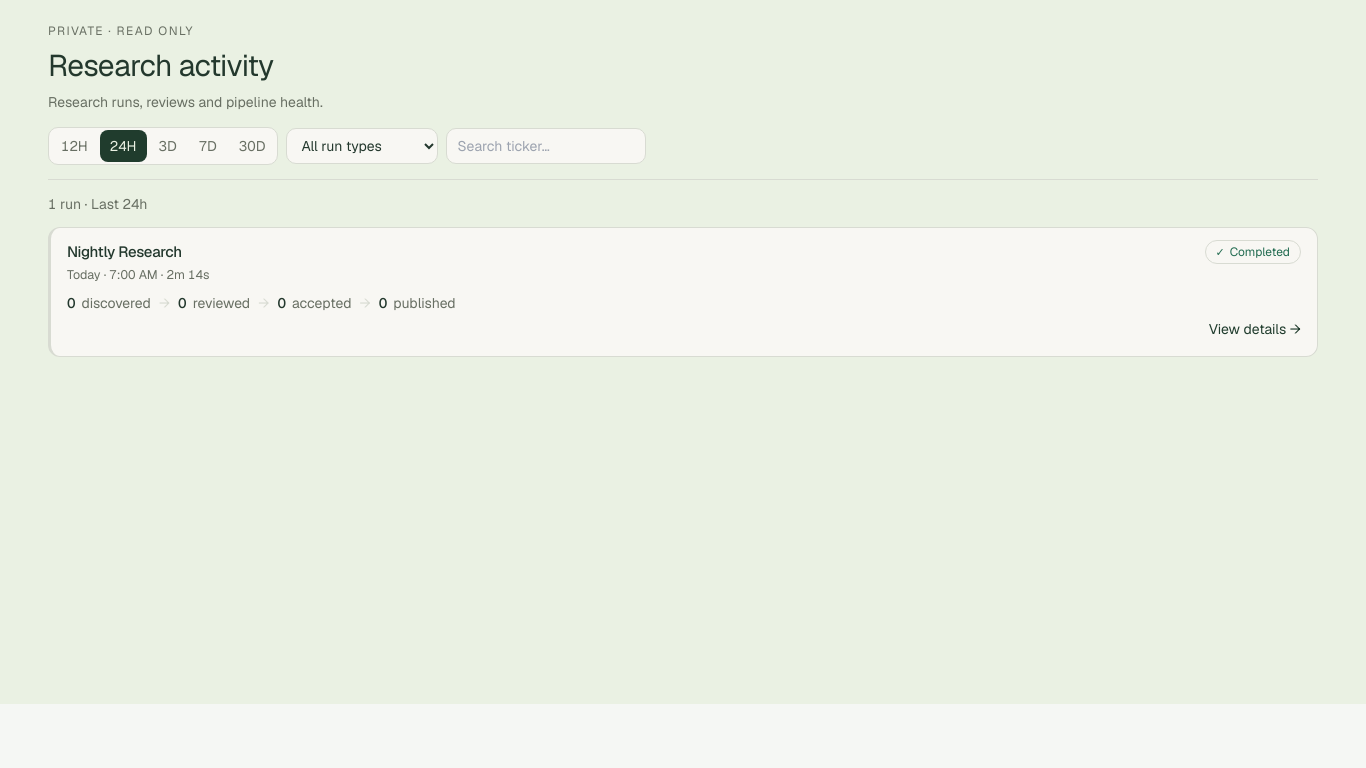
research activity page › keeps a recorded zero visible as zero rather than hiding it as unknown
Expected: the element named "Run summary" shows "0 discovered", [67,294,456,312]
Expected: the element named "Run summary" shows "0 published", [67,294,456,312]
Click the button "View details →" at (1251, 330), box [1201,316,1301,344]
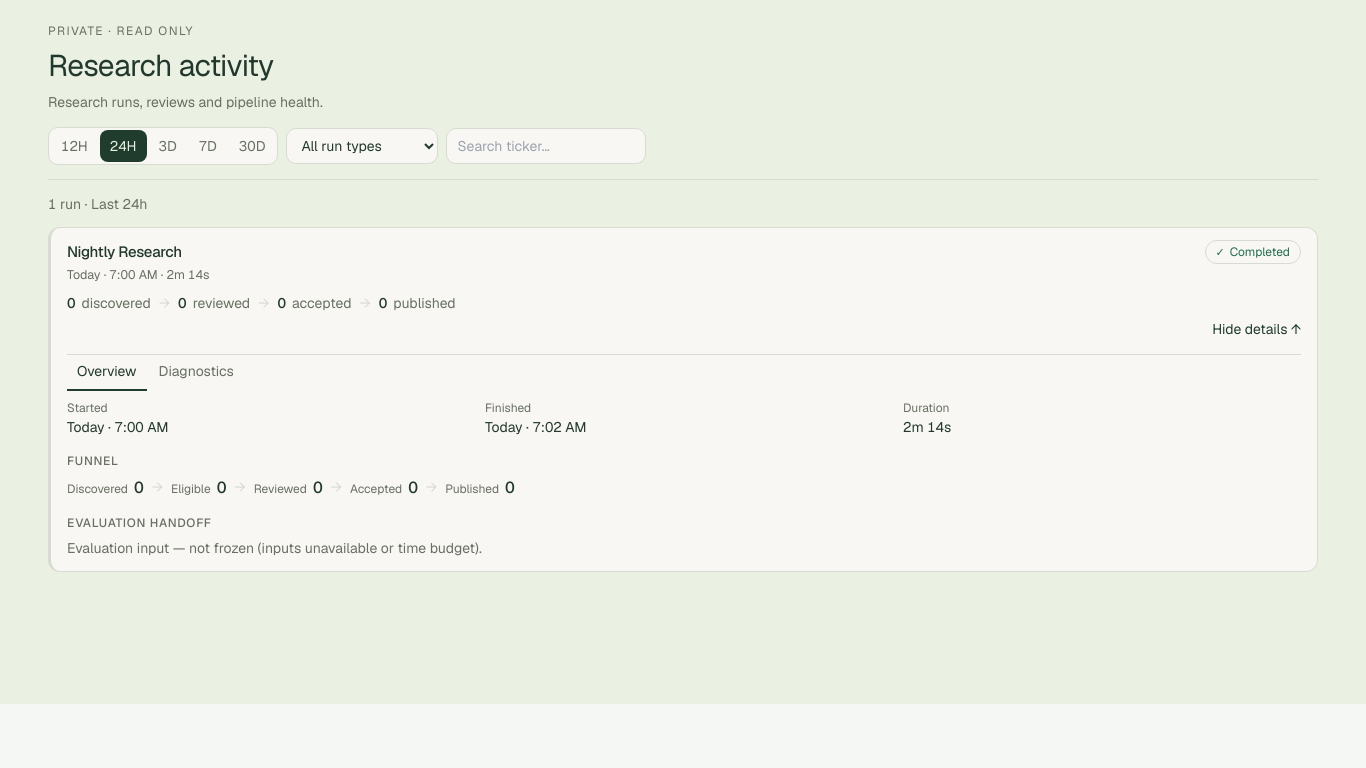
Expected: the text "0" is shown 5 times, [134,476,144,500]; [217,476,226,500]; [313,476,323,500]; [408,476,418,500]; [505,476,515,500]
